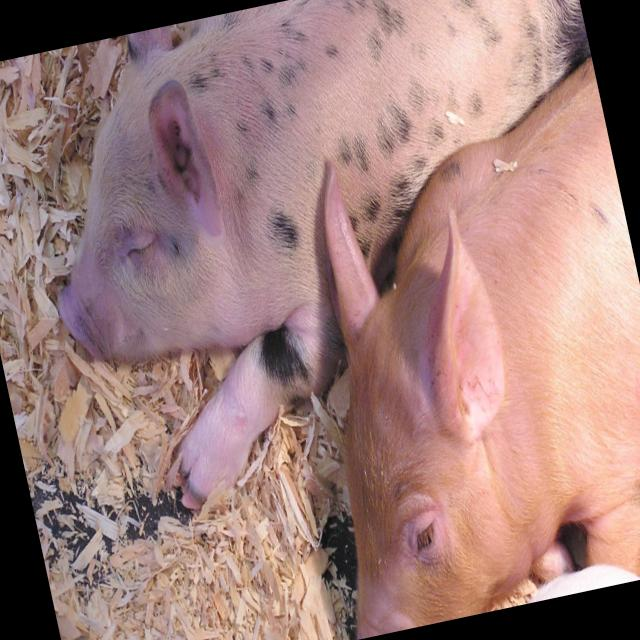pig: (53, 0, 591, 511), (323, 57, 640, 639)
